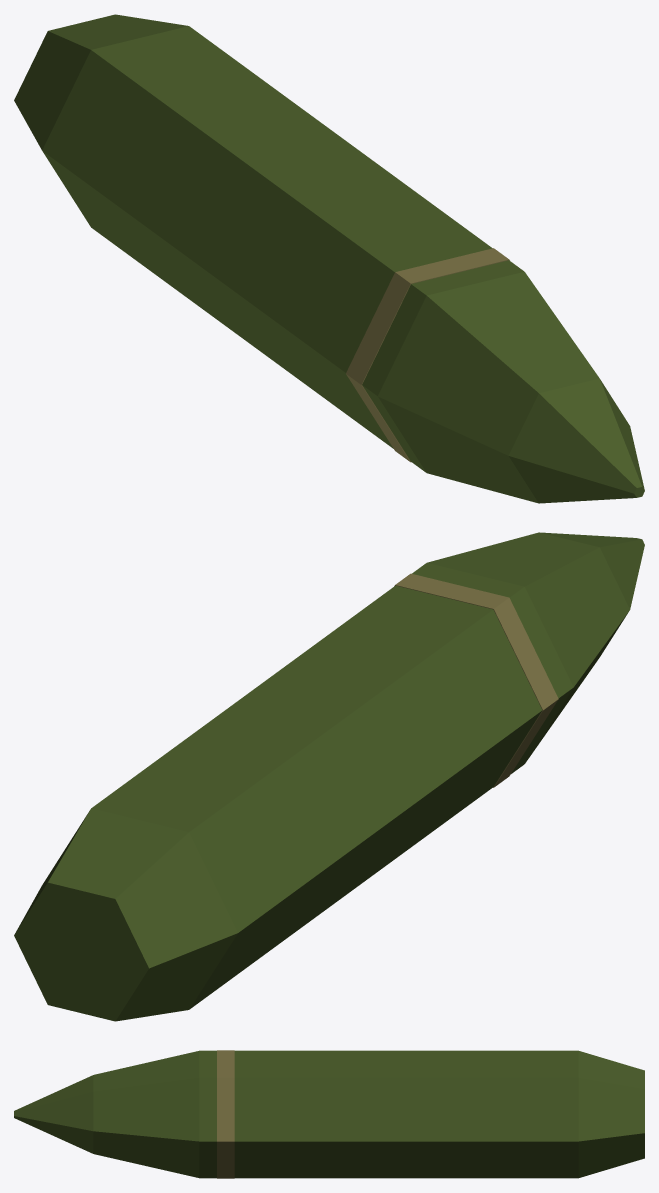
Rendered from olive-shell.glb.
3 views of the same model, one above another, from view 1: azimuth 30°, elevation 25°; view 2: azimuth 150°, elevation 25°; view 3: azimuth 270°, elevation 25° (orthographic). The views are drawn at different scales.
Visible parts, largest first — view 1: OLIVE_SHELL; view 2: OLIVE_SHELL; view 3: OLIVE_SHELL.
Boxes of the visible parts, <box> form: OLIVE_SHELL: <box>14,14,644,503</box>; OLIVE_SHELL: <box>14,532,644,1021</box>; OLIVE_SHELL: <box>14,1050,644,1178</box>.
Size of the model in its own units: 0.2042 by 0.1768 by 1.
